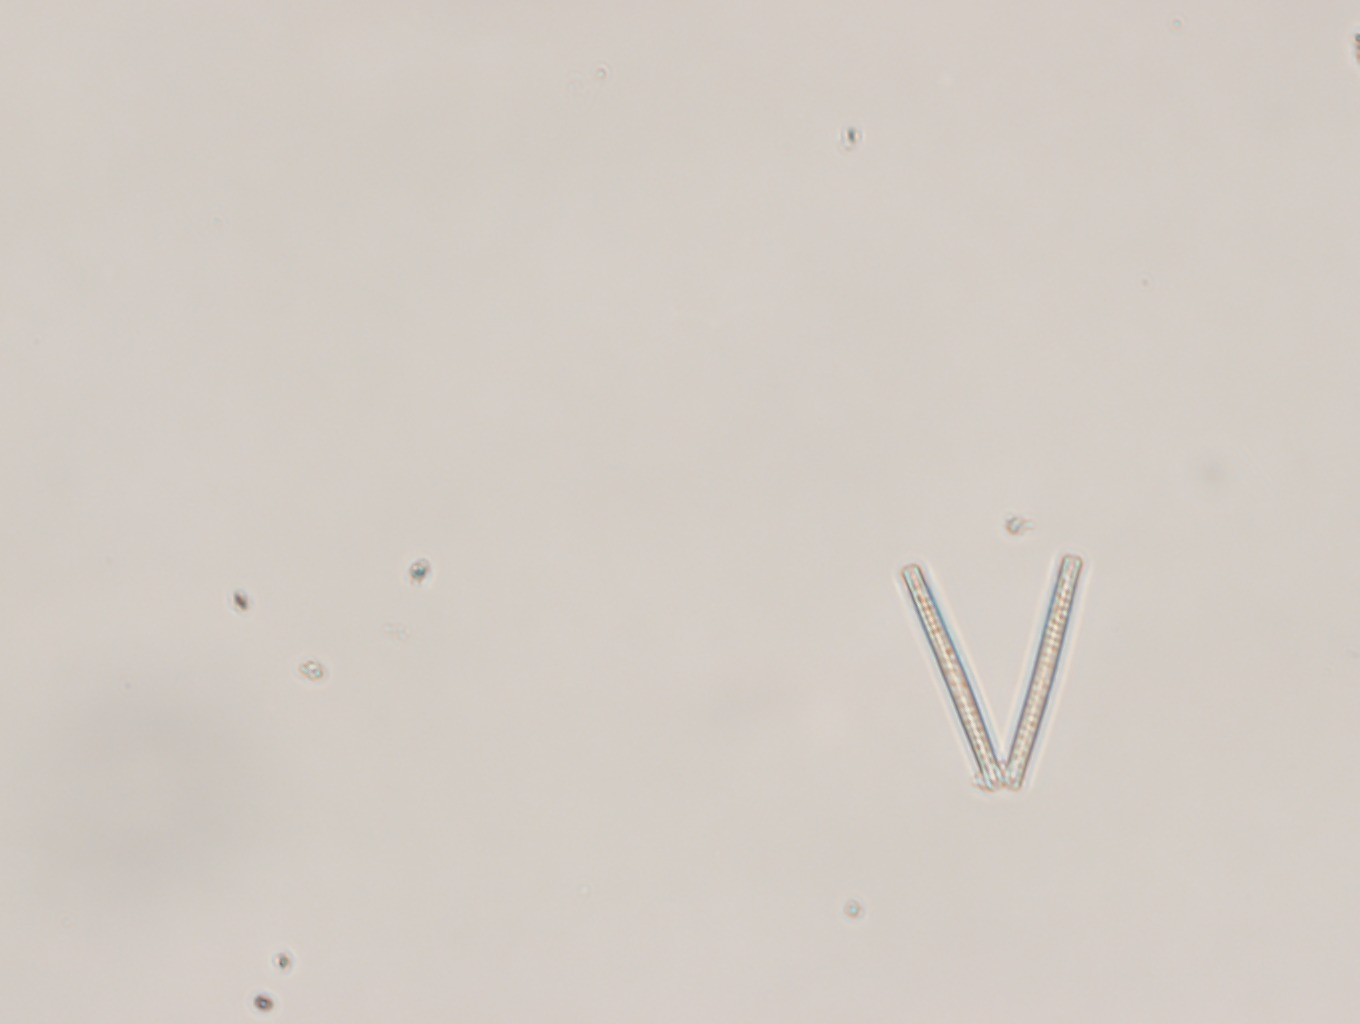thalassionema nitzschioides: (897, 551, 1080, 792)
